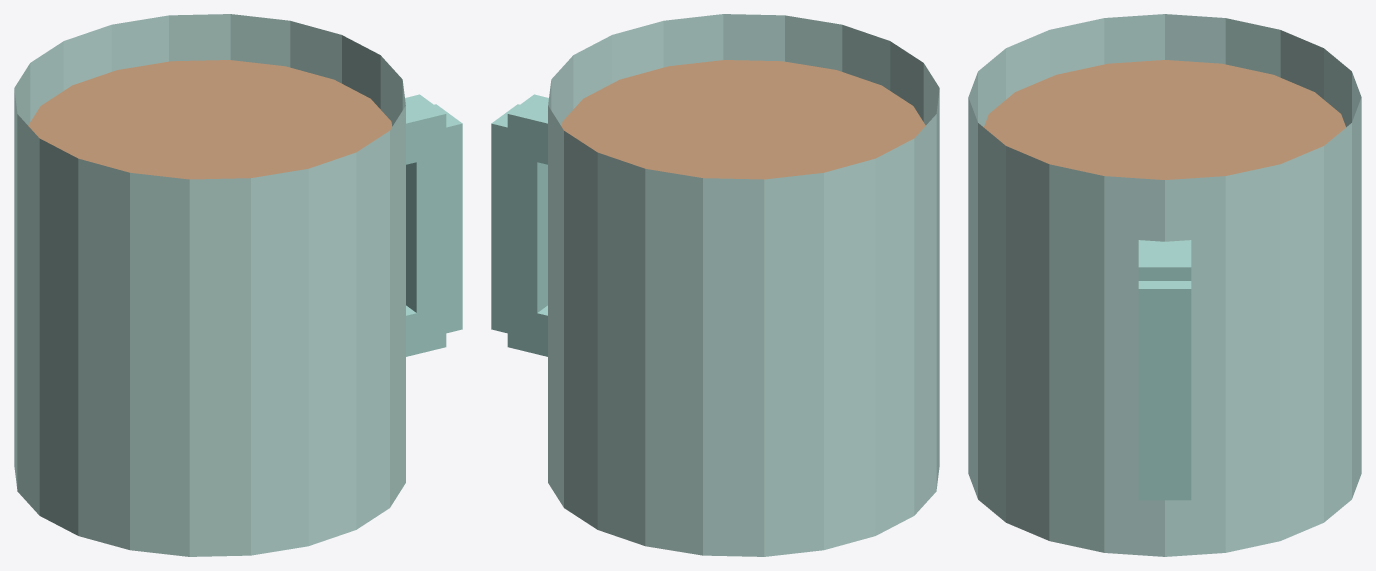
The model's file is cup.glb.
3 renders of one model, left to right at view 1: azimuth 30°, elevation 25°; view 2: azimuth 150°, elevation 25°; view 3: azimuth 270°, elevation 25°, orthographic.
Visible parts, largest first — view 1: body, tea, handle; view 2: body, tea, handle; view 3: body, tea, handle.
Boxes of the visible parts, x1,y1,x2,y2 form: body: [14, 14, 405, 556]; tea: [28, 60, 392, 179]; handle: [405, 94, 462, 356]; body: [548, 14, 939, 556]; tea: [561, 60, 925, 179]; handle: [491, 94, 548, 356]; body: [968, 14, 1361, 556]; tea: [984, 60, 1345, 179]; handle: [1138, 240, 1191, 500].
Size of what is drawn, in the model's own units: 0.125 by 0.11 by 0.104.
